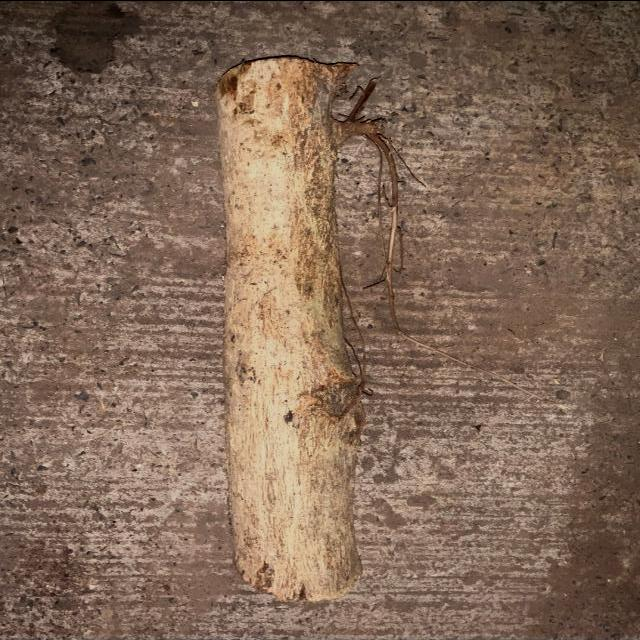General: (0, 2, 639, 638), (211, 52, 563, 605)
Pathological: (212, 53, 370, 605)
Sharps: (332, 76, 562, 414)
